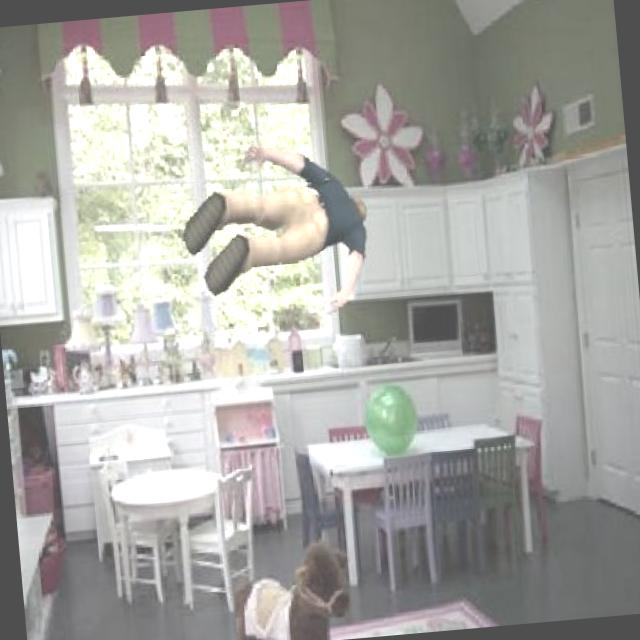Person: (168, 128, 376, 332)
